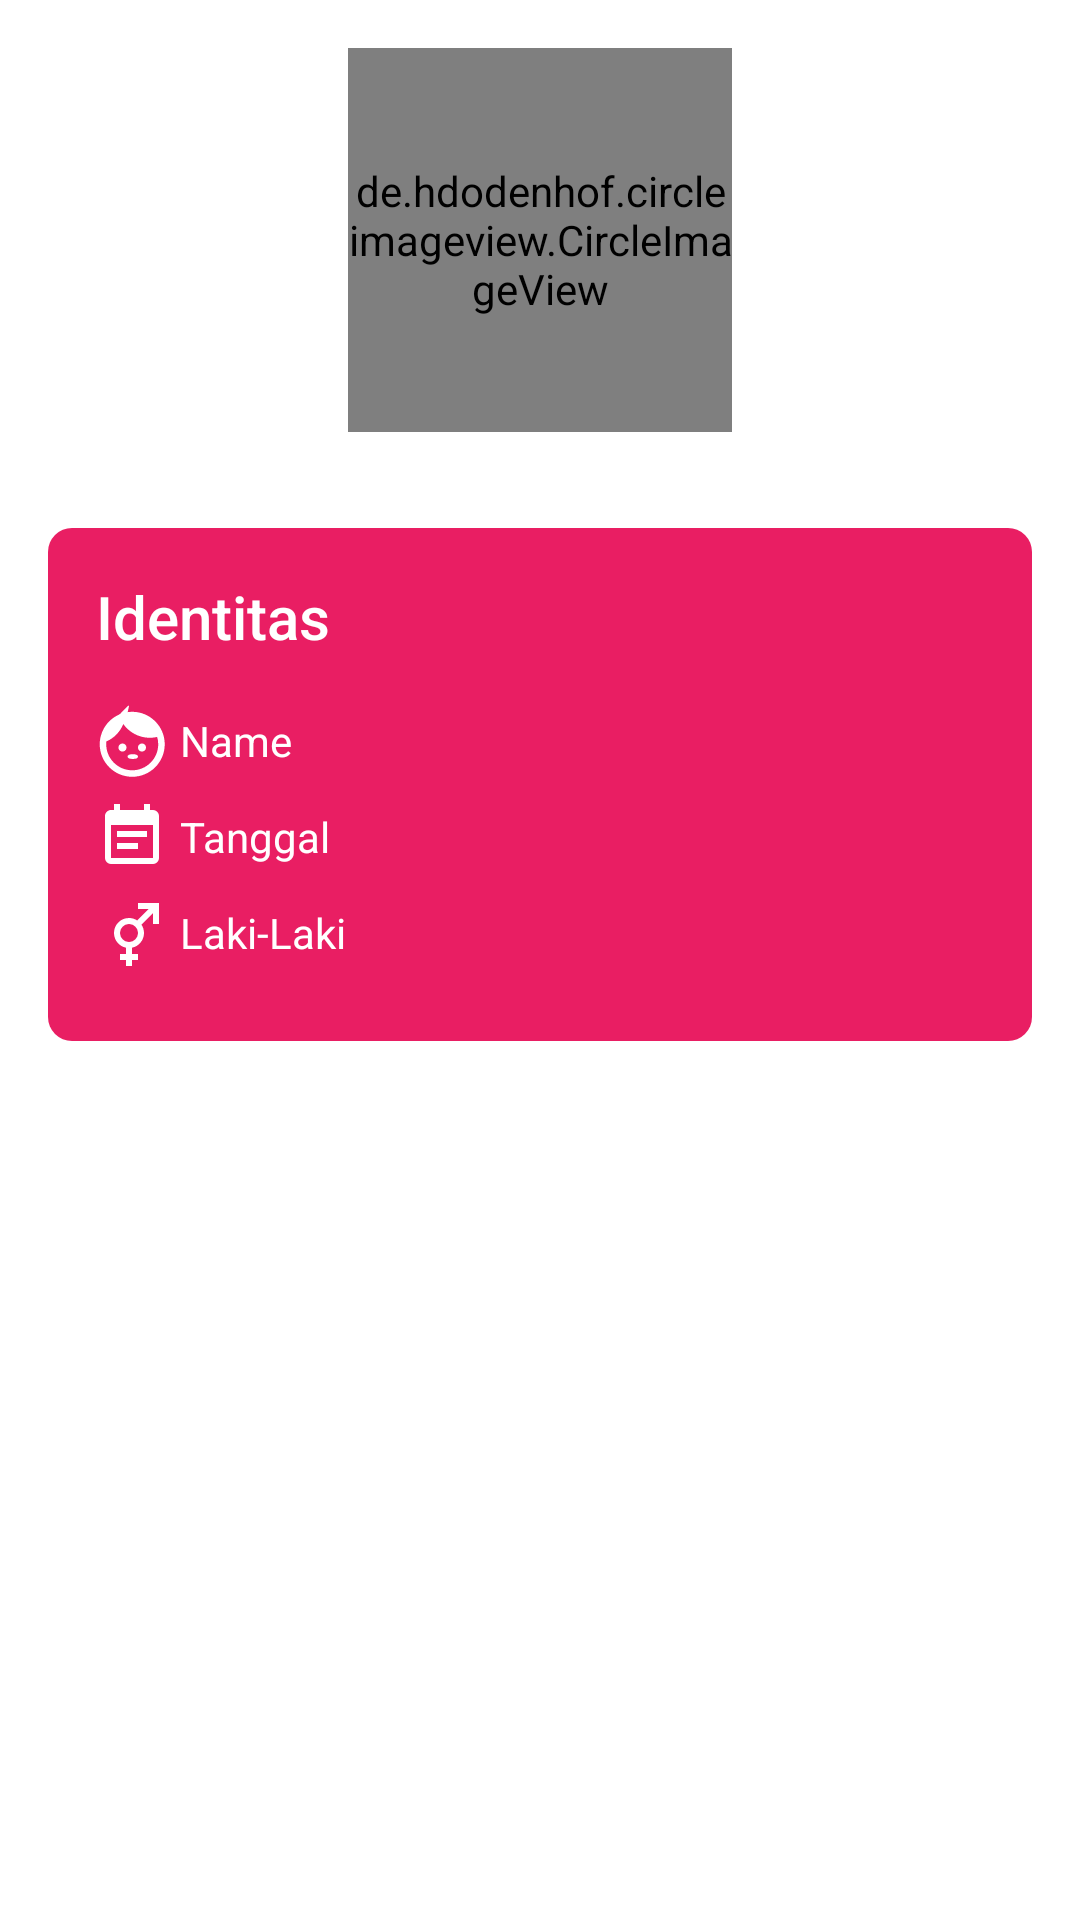

Screen size 1080 × 1920. Icon name, then its center in pixels as (x,y):
baby face: (132,741)
calendar: (132,834)
gender male female: (136,934)
